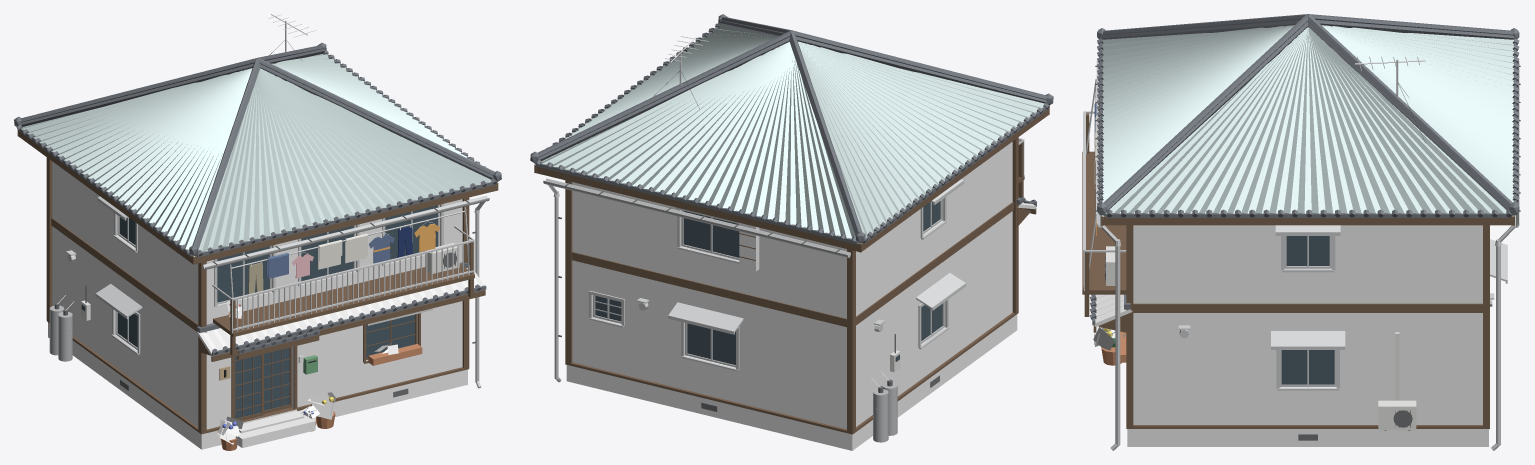
File: house_hipped.glb
3 renders of one model, left to right at view 1: azimuth 30°, elevation 25°; view 2: azimuth 150°, elevation 25°; view 3: azimuth 270°, elevation 25°, orthographic. The views are drawn at different scales.
Parts seen in each view (by area): view 1: house_hipped_body; view 2: house_hipped_body; view 3: house_hipped_body.
Part boxes in pixels (x1,y1,x2,y2): house_hipped_body: [14, 14, 501, 450]; house_hipped_body: [530, 14, 1053, 450]; house_hipped_body: [1082, 14, 1520, 450].
Size of what is drawn, in the model's own units: 8.89 by 8.27 by 9.22.
